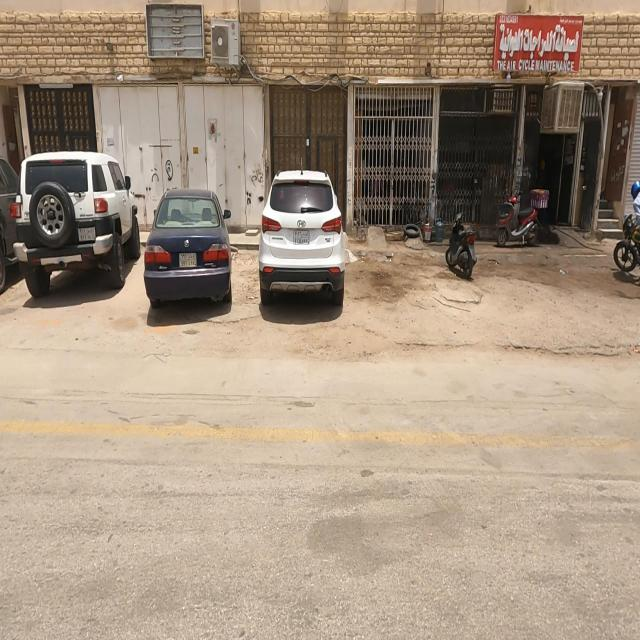Graffiti: (165, 160, 177, 182), (253, 168, 264, 188), (150, 168, 161, 185), (246, 191, 253, 207), (258, 196, 266, 206)
